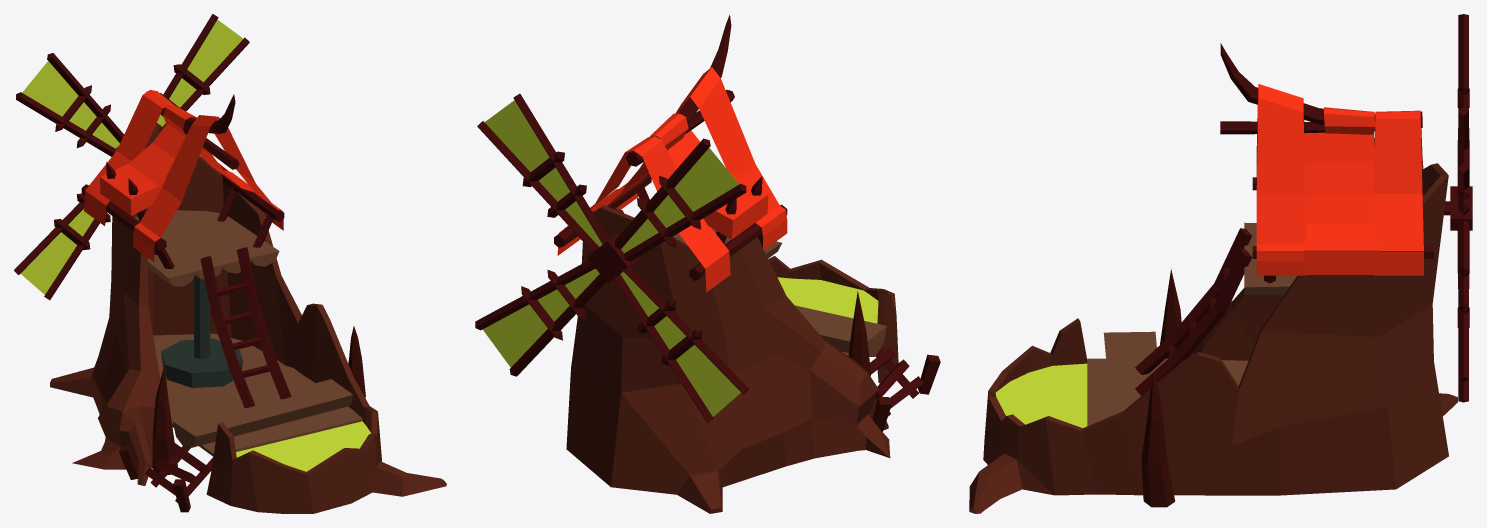
Rendered from Treehouse.FBX.
3 views of the same model, side by side, from view 1: azimuth 30°, elevation 25°; view 2: azimuth 150°, elevation 25°; view 3: azimuth 270°, elevation 25° (orthographic). The views are drawn at different scales.
Visible parts, largest first — view 1: Object008, Object006, Object003, Object009, Object007, Object004, Object013, Object011, Object014; view 2: Object008, Object004, Object007, Object003, Object009, Object014, Object006, Object011; view 3: Object008, Object003, Object009, Object006, Object004, Object014, Object011.
Part boxes in pixels (x1,y1,x2,y2): Object008: (50, 123, 446, 513); Object006: (134, 210, 362, 456); Object003: (84, 90, 283, 261); Object009: (81, 91, 291, 502); Object007: (20, 19, 243, 294); Object004: (14, 14, 249, 300); Object013: (161, 275, 242, 387); Object011: (119, 326, 365, 512); Object014: (236, 421, 371, 471); Object008: (566, 205, 898, 513); Object004: (475, 93, 748, 422); Object007: (483, 100, 740, 416); Object003: (557, 67, 787, 292); Object009: (554, 14, 923, 416); Object014: (777, 277, 878, 323); Object006: (673, 228, 886, 356); Object011: (848, 291, 940, 431); Object008: (969, 163, 1457, 513); Object003: (1256, 84, 1423, 275); Object009: (1135, 43, 1433, 395); Object006: (1087, 222, 1296, 425); Object004: (1444, 14, 1472, 402); Object014: (995, 363, 1087, 427); Object011: (1141, 269, 1181, 507).
Bounding box in the file's own units: 167 × 206 × 226.
